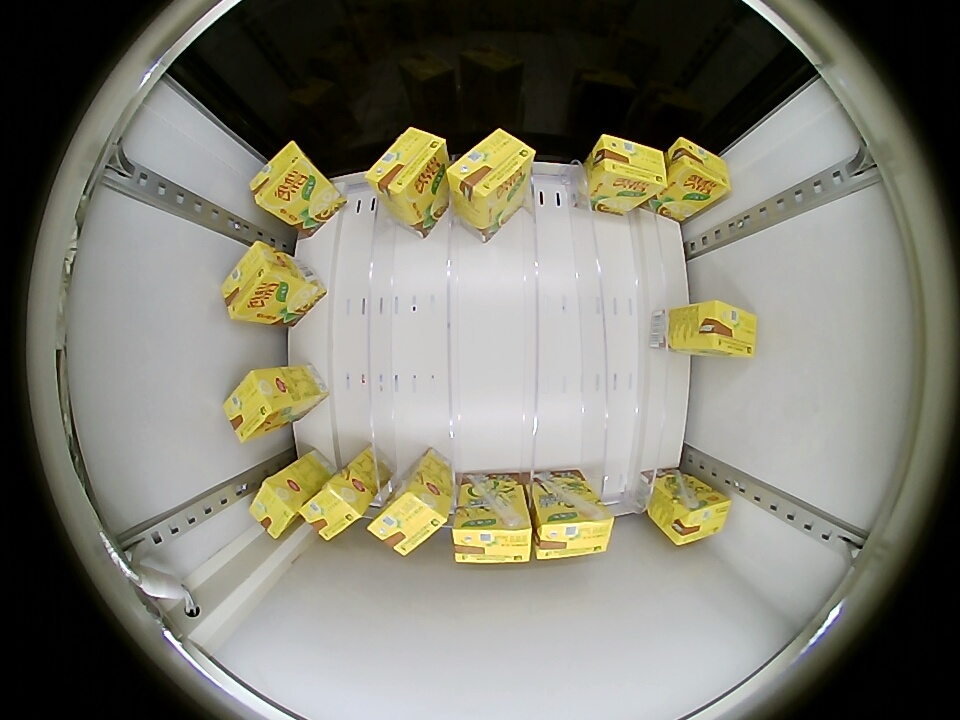weitaningmeng: (447, 128, 535, 205), (366, 126, 447, 203), (366, 484, 449, 558), (222, 239, 289, 322), (589, 134, 669, 197), (250, 142, 317, 217), (533, 500, 614, 561), (223, 368, 288, 444), (451, 505, 533, 565), (667, 136, 732, 203), (299, 478, 367, 542), (663, 486, 731, 547), (694, 300, 757, 358), (249, 474, 302, 540)
